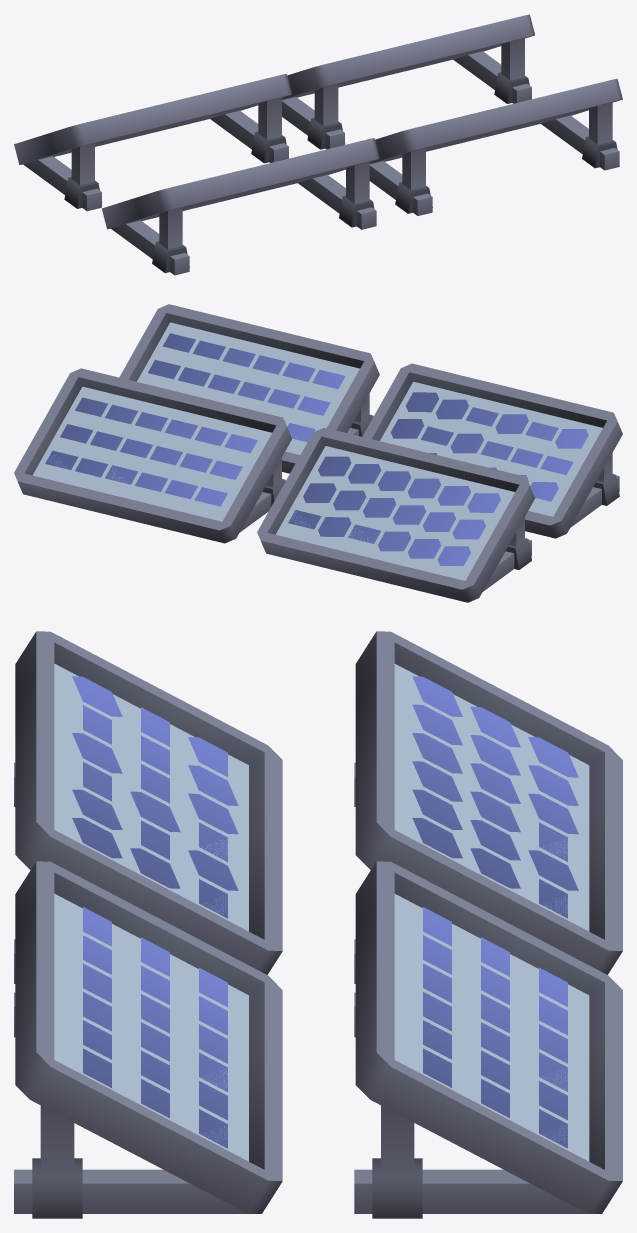
Rendered from solar-panel-landscape-group.lod.glb.
3 renders of one model, top to bottom at view 1: azimuth 30°, elevation 25°; view 2: azimuth 150°, elevation 25°; view 3: azimuth 270°, elevation 25°, orthographic. The views are drawn at different scales.
Parts seen in each view (by area): view 1: solar-panel-landscape-group; view 2: solar-panel-landscape-group; view 3: solar-panel-landscape-group.
Boxes of the visible parts, x1,y1,x2,y2 form: solar-panel-landscape-group: [14, 14, 622, 275]; solar-panel-landscape-group: [14, 304, 622, 602]; solar-panel-landscape-group: [14, 631, 622, 1218].
Size of the model in its own units: 1.51 by 0.2623 by 0.895.
Materials: 1 (1 with a texture image).
